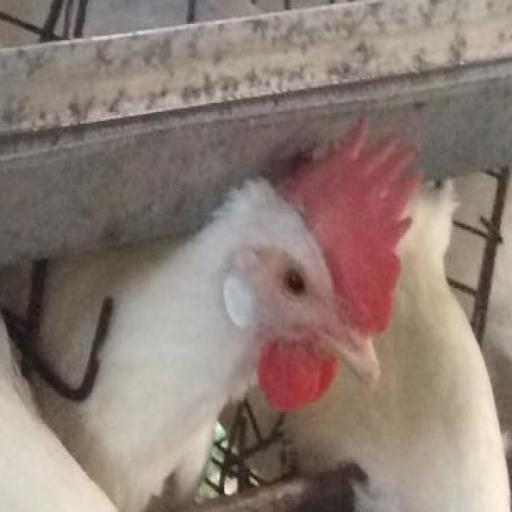healthy: (230, 174, 396, 400)
